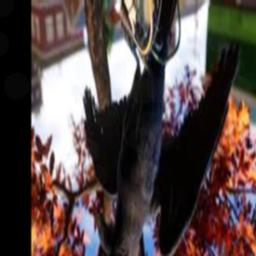Crow: (82, 0, 239, 256)
